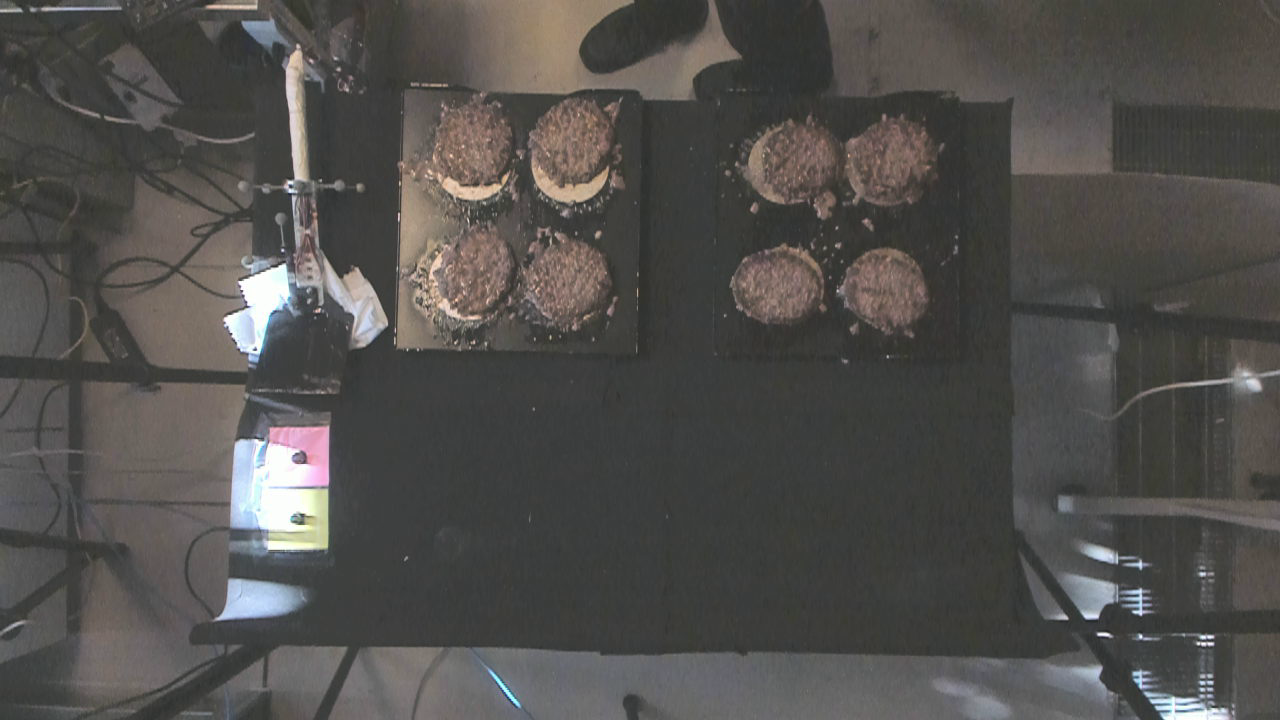hamburger: (847, 109, 942, 201), (524, 97, 620, 187), (429, 96, 514, 185), (429, 227, 514, 316), (520, 244, 611, 324), (733, 246, 823, 324), (845, 256, 929, 337), (767, 123, 848, 202)
marker: (268, 426, 329, 488)
